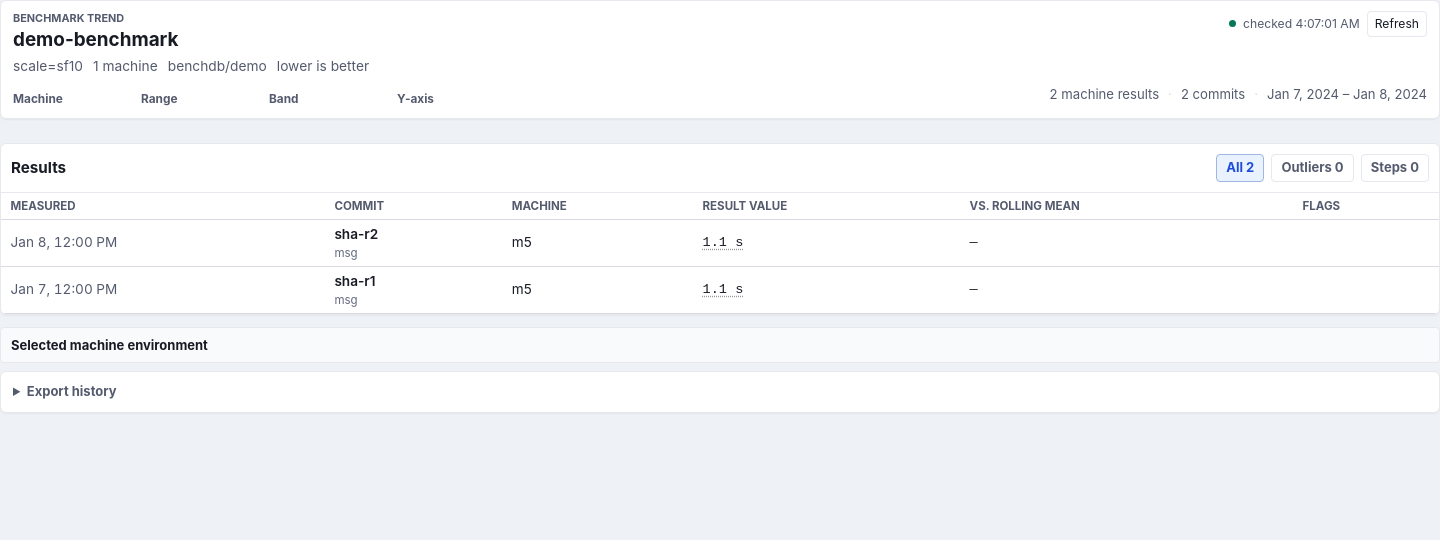
Scenario: TrendPage › selects a point from the table and offers Open result
Expected: the link "sha-r2" is shown, [334,226,378,242]
What coordinates should you click on to do the following:
click the row "sha-r2"
I would click on:
 (720, 243)
Its box is [1,220,1439,267].
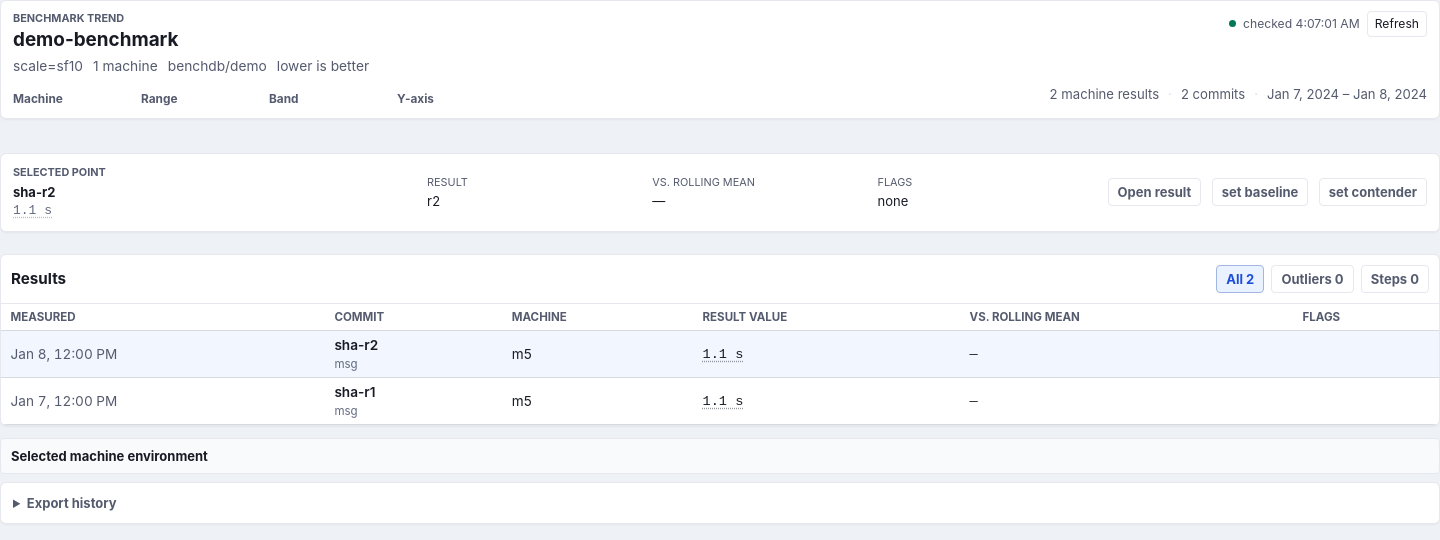
Result: the text "selected point" is shown at [13,165,106,179]
